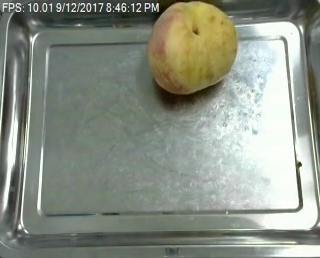Peach: (147, 1, 238, 94)
